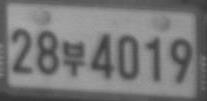0: (117, 33, 140, 80)
1: (142, 36, 166, 81)
2: (11, 27, 33, 74)
4: (90, 33, 115, 79)
8: (37, 29, 59, 75)
9: (169, 37, 192, 82)
부: (62, 39, 85, 77)
